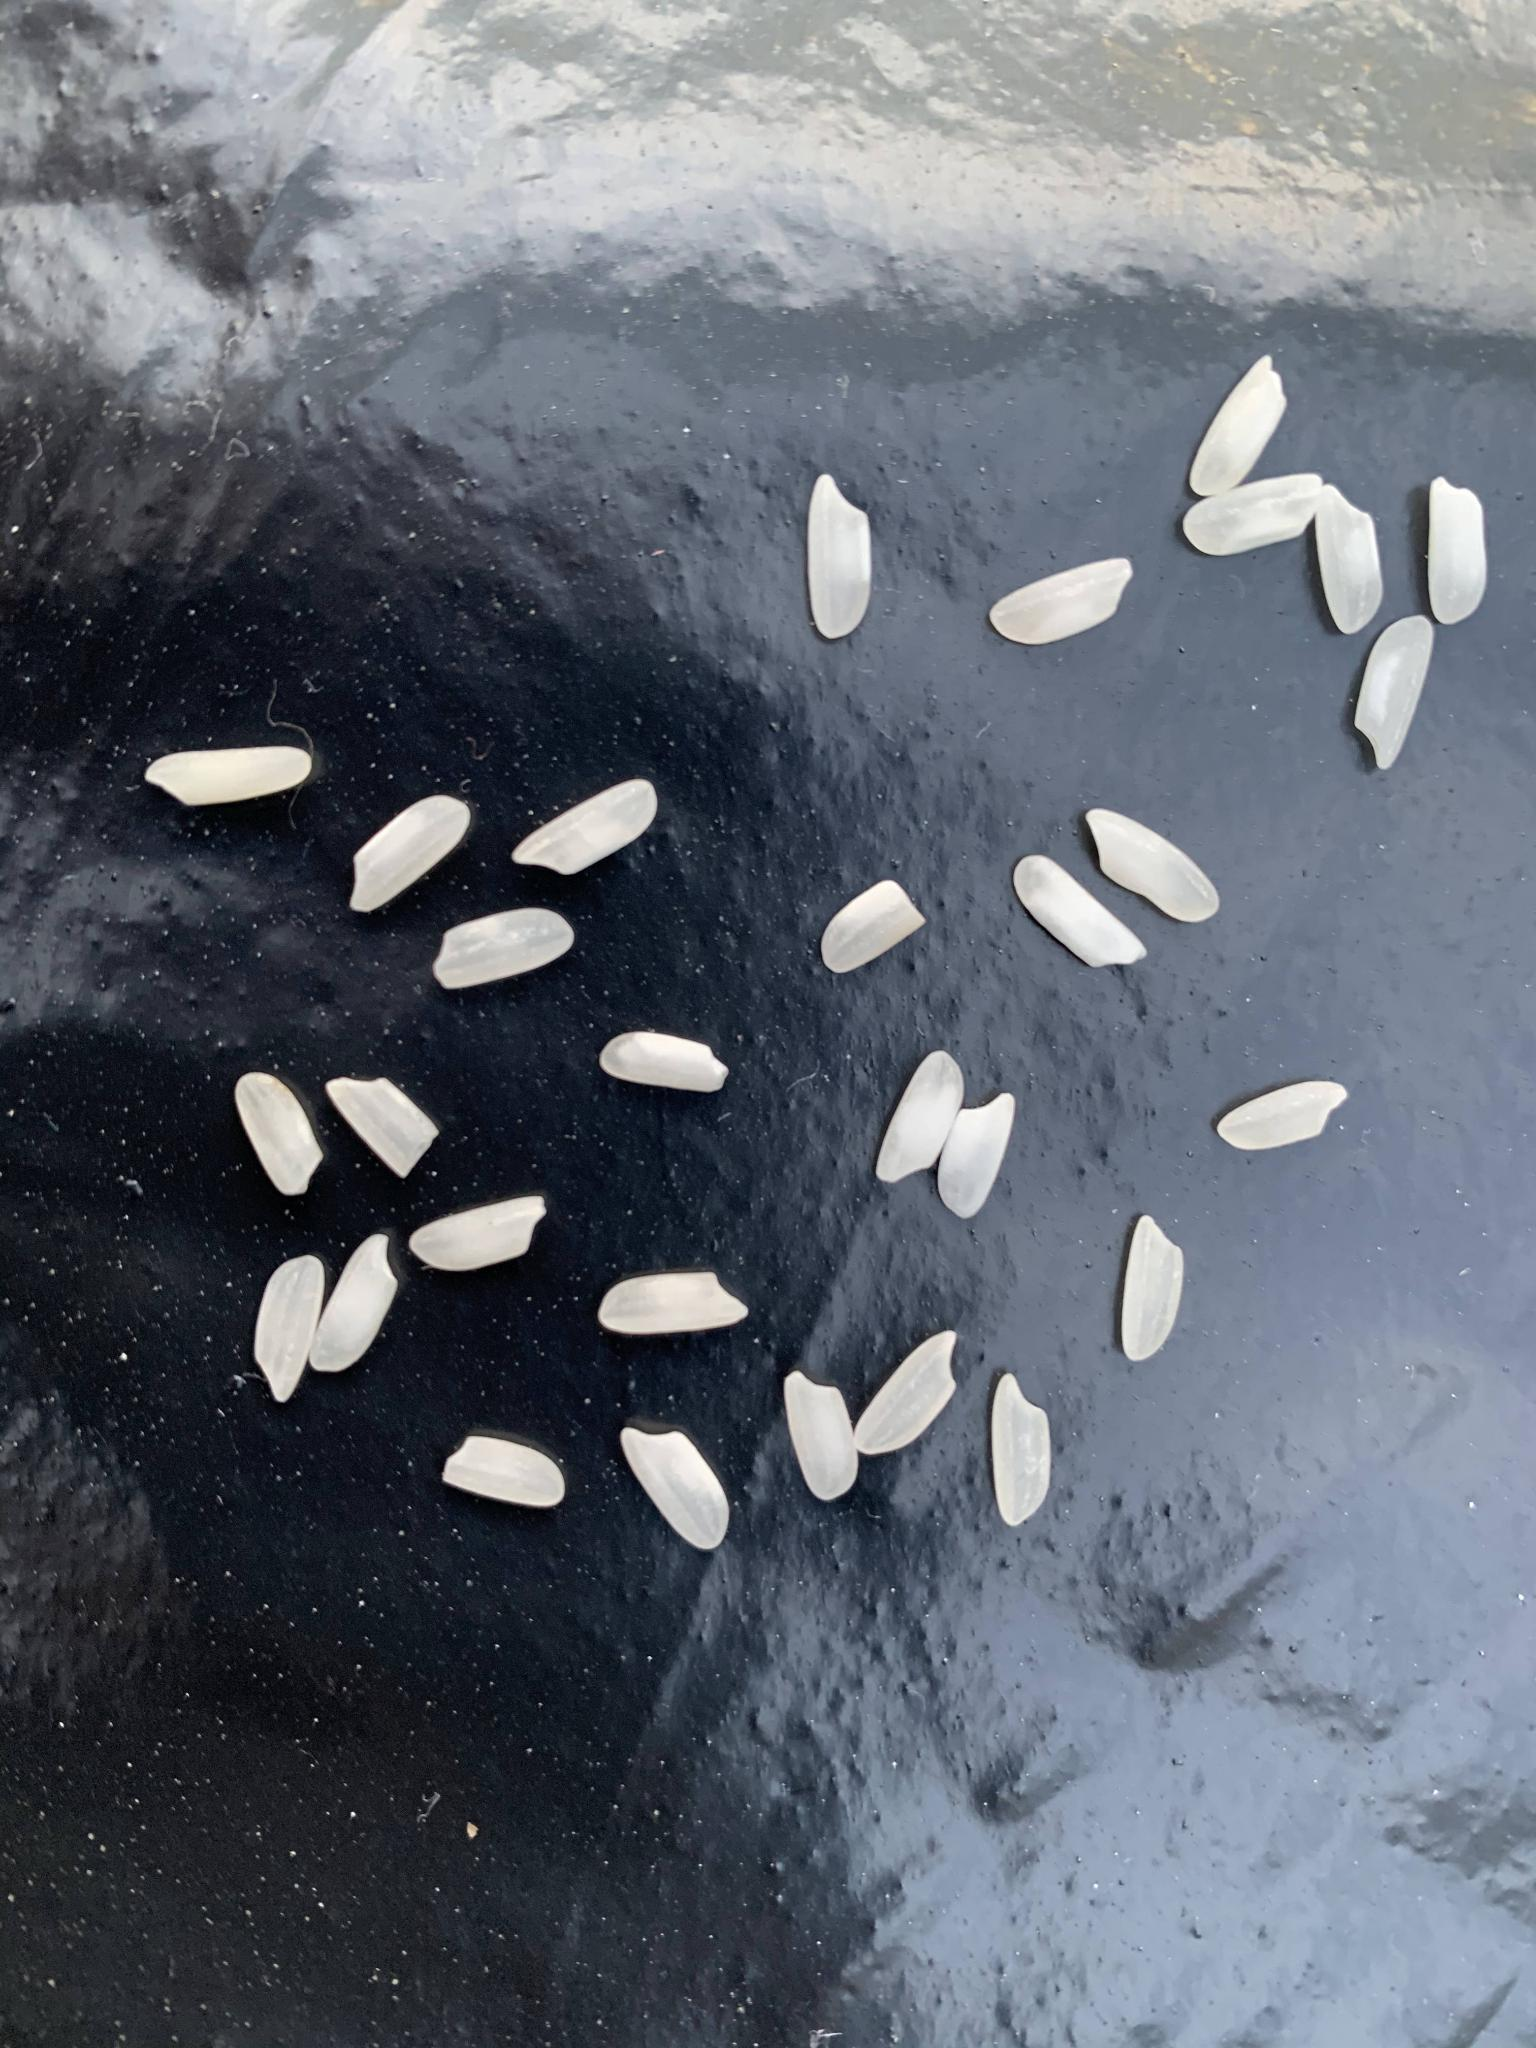rice: (1012, 853, 1150, 972), (1087, 810, 1221, 924), (508, 777, 658, 877), (347, 795, 470, 914), (1187, 355, 1288, 498), (620, 1427, 728, 1551), (855, 1329, 957, 1458), (1354, 618, 1438, 772), (987, 556, 1133, 645), (874, 1047, 968, 1184), (310, 1234, 400, 1371), (1183, 472, 1320, 558), (252, 1253, 328, 1405), (328, 1079, 440, 1180), (407, 1192, 550, 1271), (432, 910, 574, 989), (236, 1071, 324, 1197), (808, 471, 873, 643), (936, 1090, 1020, 1222), (595, 1268, 749, 1335), (820, 879, 926, 976), (1317, 482, 1383, 637), (145, 747, 311, 808), (1217, 1079, 1350, 1151), (786, 1371, 858, 1503), (1120, 1214, 1184, 1363), (440, 1434, 566, 1509), (991, 1372, 1050, 1527), (1430, 477, 1488, 627), (599, 1032, 729, 1097)
